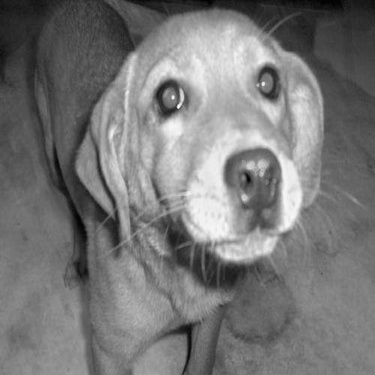dog: (24, 3, 330, 371)
